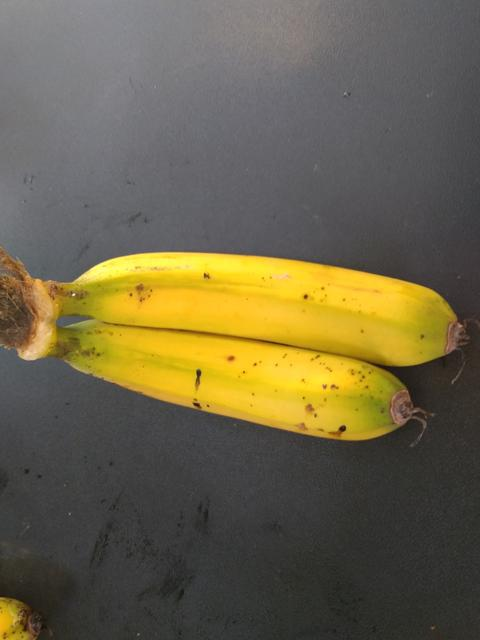freshripe: (63, 234, 461, 364)
ripe: (86, 325, 432, 486)
